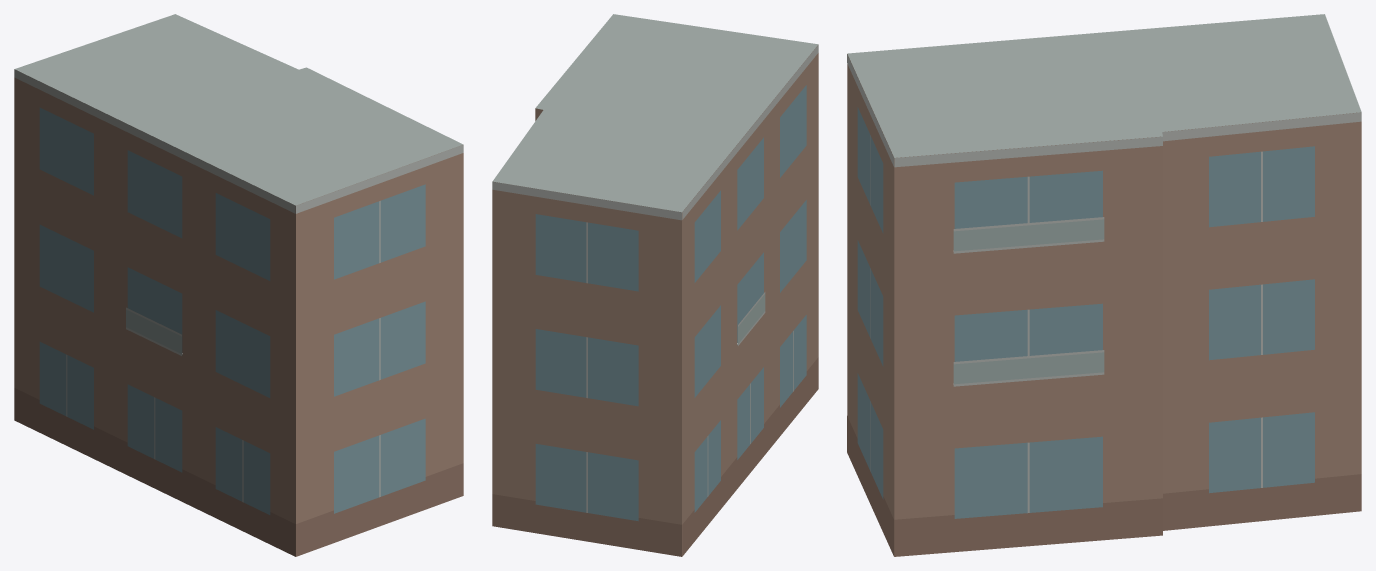
File: survey-upis-32675262.glb
3 views of the same model, side by side, from view 1: azimuth 30°, elevation 25°; view 2: azimuth 150°, elevation 25°; view 3: azimuth 270°, elevation 25° (orthographic). The views are drawn at different scales.
Parts seen in each view (by area): view 1: survey-upis-32675262.tmp; view 2: survey-upis-32675262.tmp; view 3: survey-upis-32675262.tmp.
Boxes of the visible parts, x1,y1,x2,y2 form: survey-upis-32675262.tmp: (14,14,463,556); survey-upis-32675262.tmp: (492,14,818,556); survey-upis-32675262.tmp: (847,14,1361,556).
Bounding box in the file's own units: 8.02 × 10.35 × 12.11.
